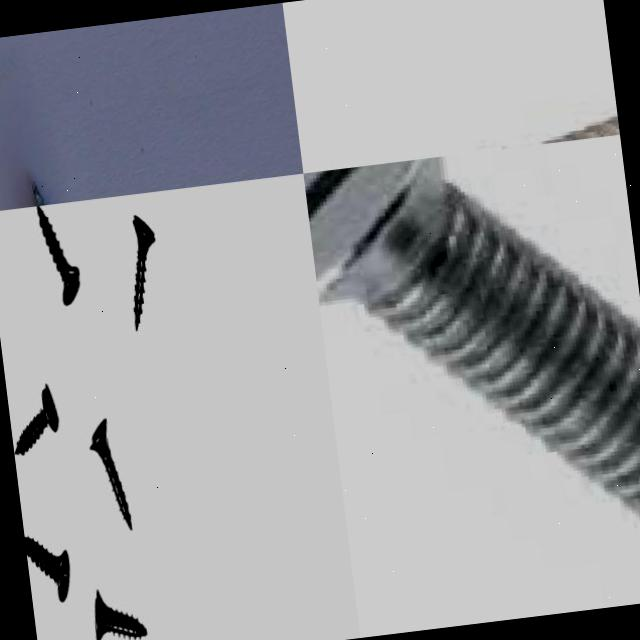Screw: (303, 156, 640, 523), (90, 416, 131, 528), (36, 205, 79, 303), (14, 382, 58, 452), (24, 535, 69, 601), (94, 589, 146, 640), (133, 212, 155, 328)
